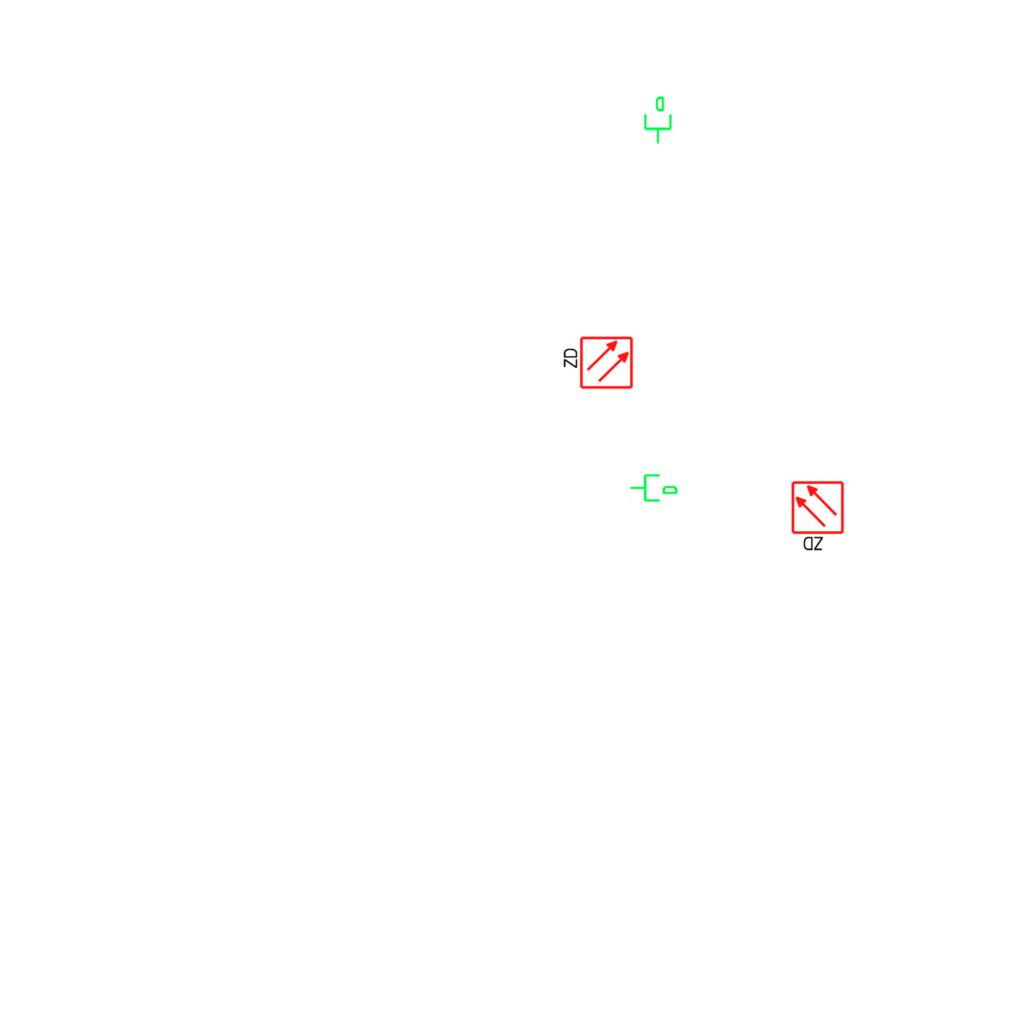Datenanschluss_einfach: (629, 470, 679, 504), (640, 95, 674, 145)
ZD_Melder_in_Zwischendecke_mit_Revisionsoeffnung_mind_40_x_40_cm: (790, 480, 847, 554), (560, 335, 634, 392)
